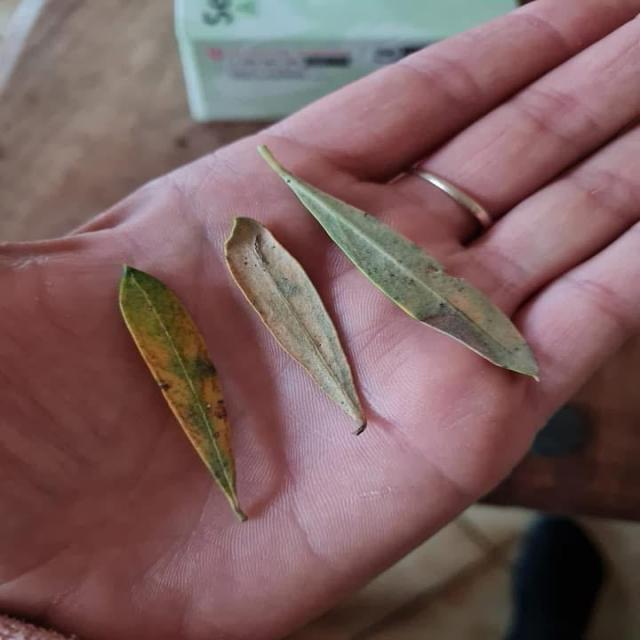Peacock Eye: (283, 170, 538, 379), (118, 265, 247, 521), (225, 217, 366, 435)
